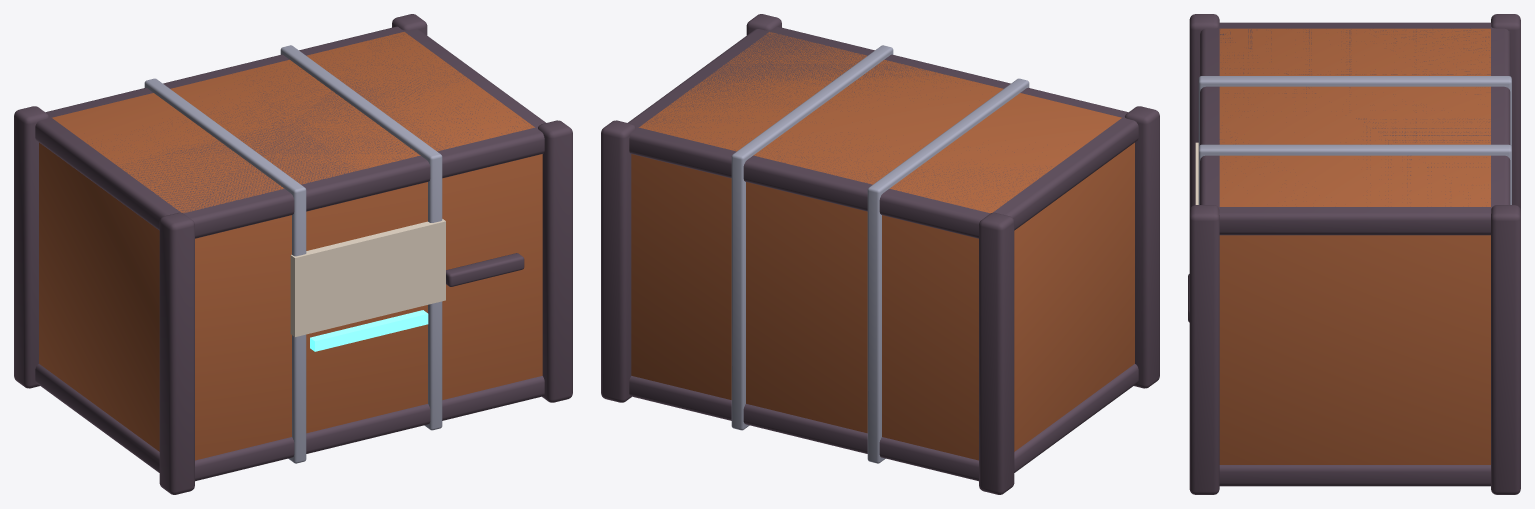
Rendered from crate_large.glb.
The picture shows the model from 3 angles, left to right: view 1: azimuth 30°, elevation 25°; view 2: azimuth 150°, elevation 25°; view 3: azimuth 270°, elevation 25°; orthographic projection. The views are drawn at different scales.
Visible parts, largest first — view 1: crate_large; view 2: crate_large; view 3: crate_large.
Boxes of the visible parts, left/top/right/bottom form: crate_large: left=14, top=14, right=572, bottom=494; crate_large: left=601, top=14, right=1159, bottom=494; crate_large: left=1188, top=14, right=1520, bottom=494.
Bounding box in the file's own units: 1.6 × 1.04 × 1.1.
